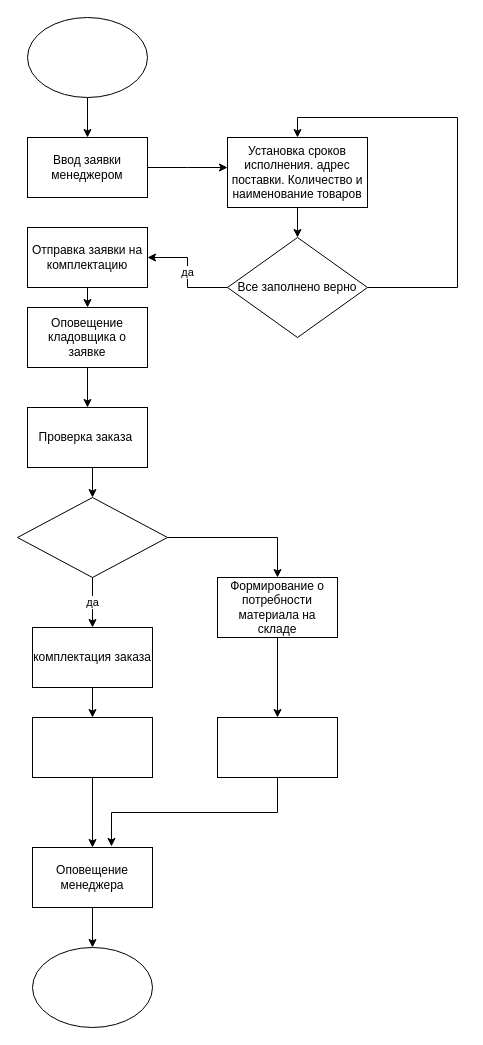
Some shapes in this 483 by 1045 pixel diagram are drawn without their labels. The shapes that lost their labels are listed below. From the top down, each one's centre as x and y in pixels, then its label:
At point (87, 57): "Заявка".
At point (92, 537): "Все ли есть на складе".
At point (92, 747): "Сообщение о готовности заказа".
At point (277, 747): "Сообщение о недокомплектовке".
At point (92, 987): "Результат выполнения заявки".
